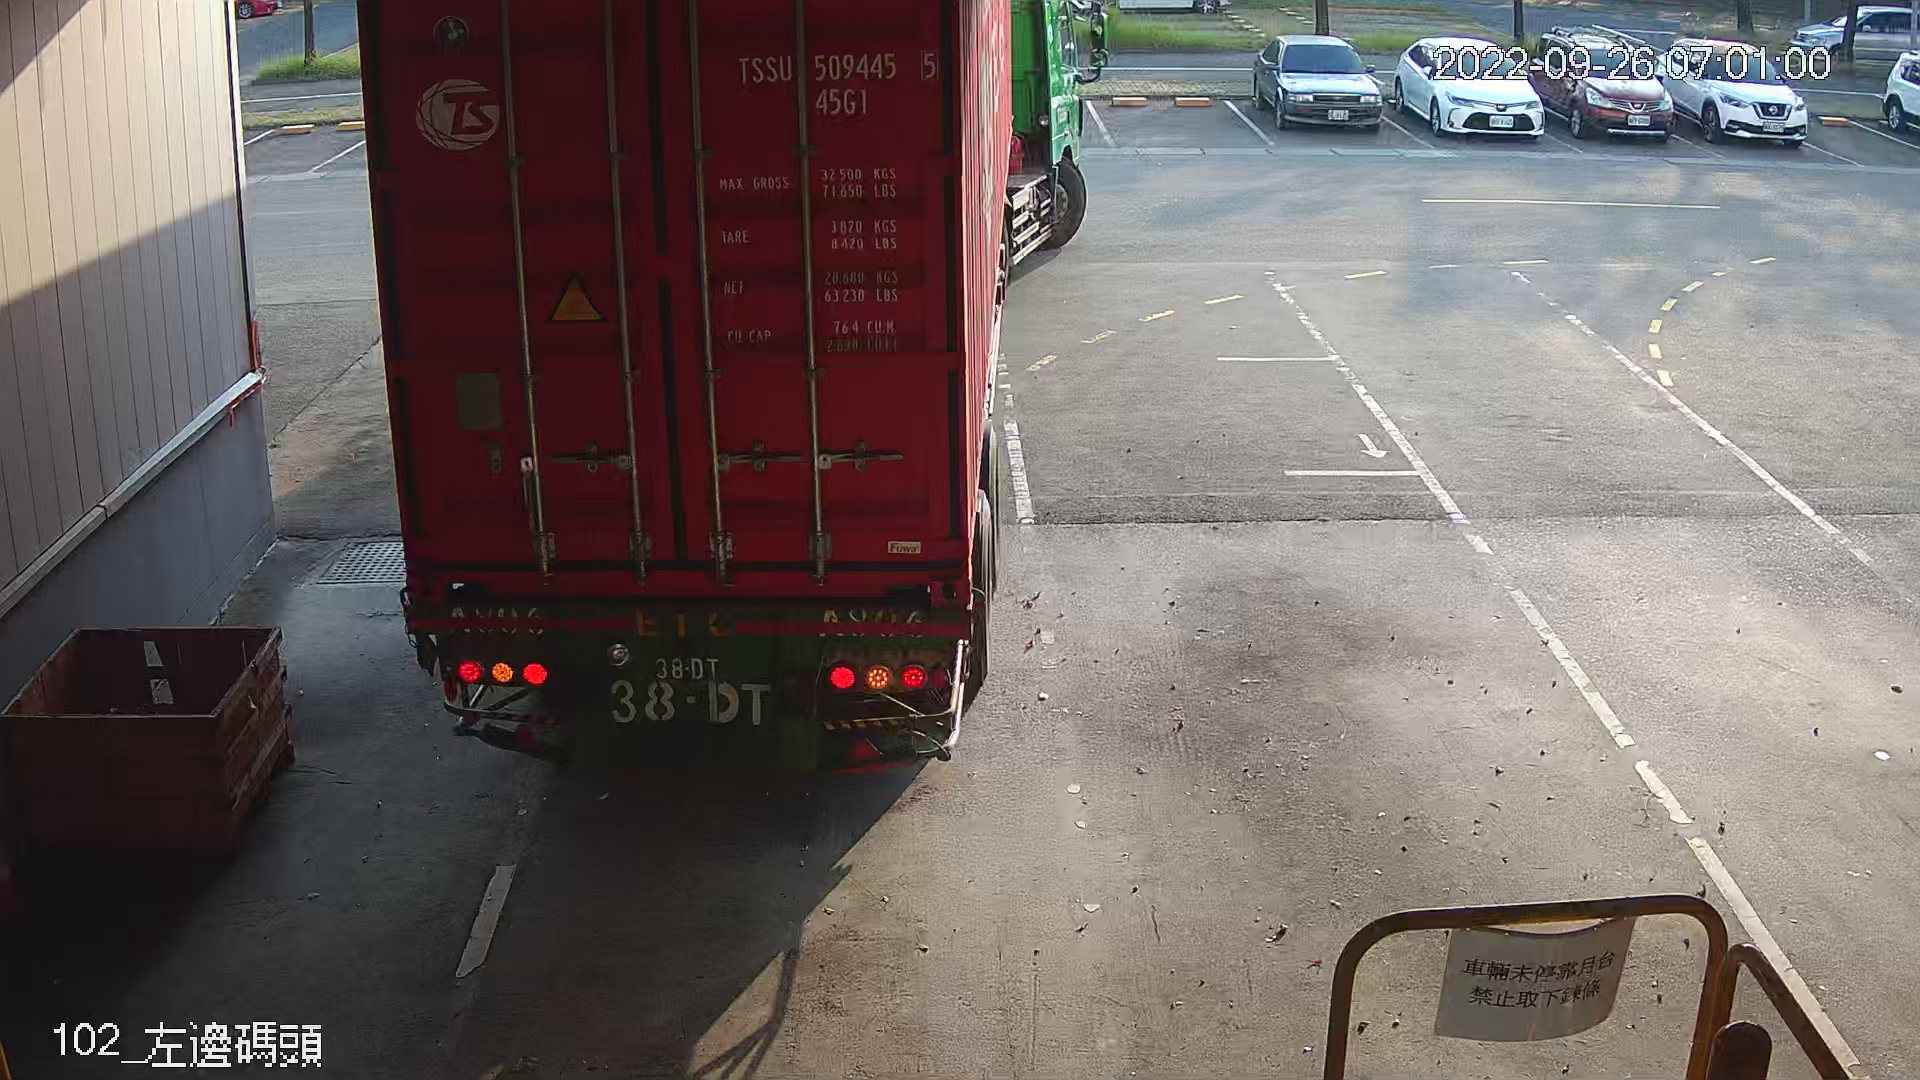container: (725, 44, 947, 123)
